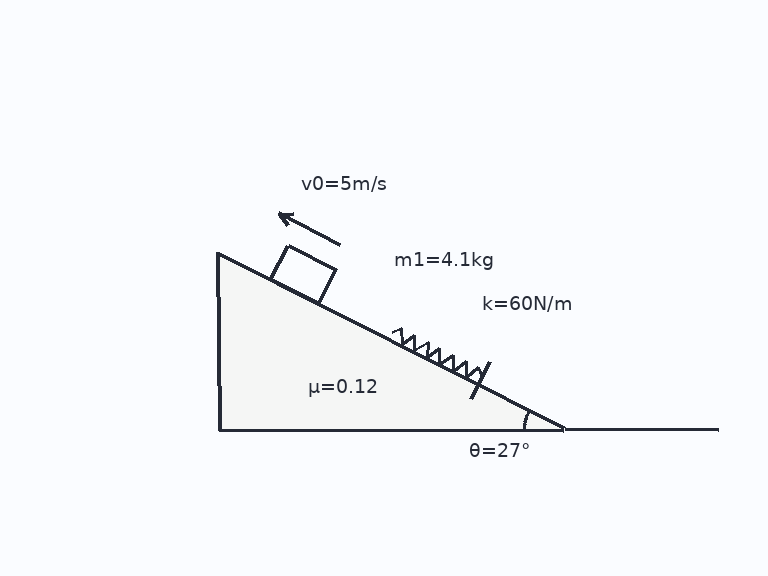block: (268, 242, 337, 305)
ramp: (216, 251, 566, 431)
spring: (390, 326, 484, 379)
